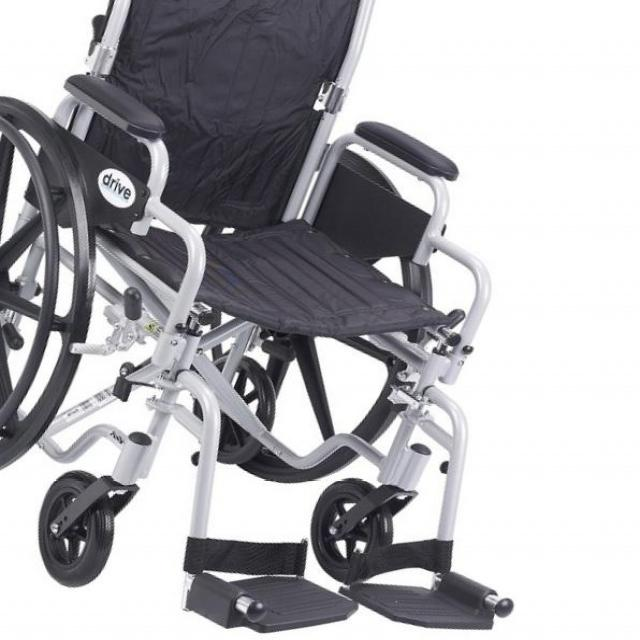wheelchair: (1, 0, 540, 640)
